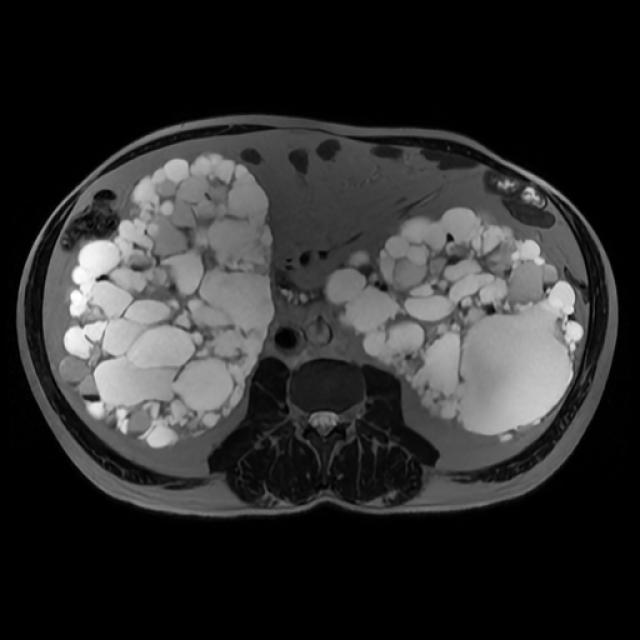sag: (60, 158, 276, 449)
sol: (326, 208, 585, 433)
